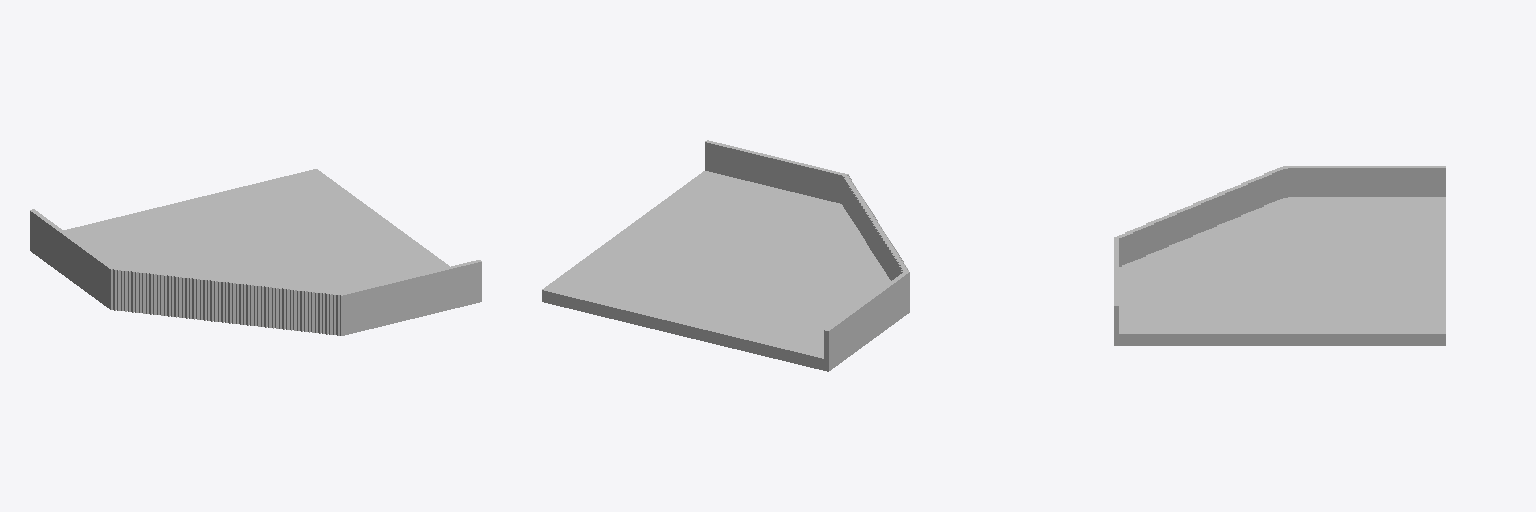
The model's file is 4x2 roof-0.obj.
The picture shows the model from 3 angles: view 1: azimuth 30°, elevation 25°; view 2: azimuth 150°, elevation 25°; view 3: azimuth 270°, elevation 25°; orthographic projection.
Visible parts, largest first — view 1: 4x2 roof-0; view 2: 4x2 roof-0; view 3: 4x2 roof-0.
Part boxes in pixels (left/top/right/bottom): 4x2 roof-0: left=30, top=169, right=481, bottom=335; 4x2 roof-0: left=542, top=140, right=909, bottom=371; 4x2 roof-0: left=1114, top=166, right=1445, bottom=345.
Size of the model in its own units: 126 by 17 by 126.